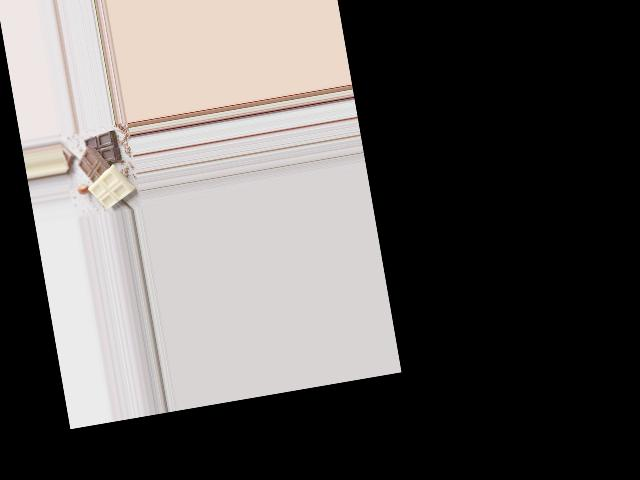chocolate: (72, 125, 133, 212)
